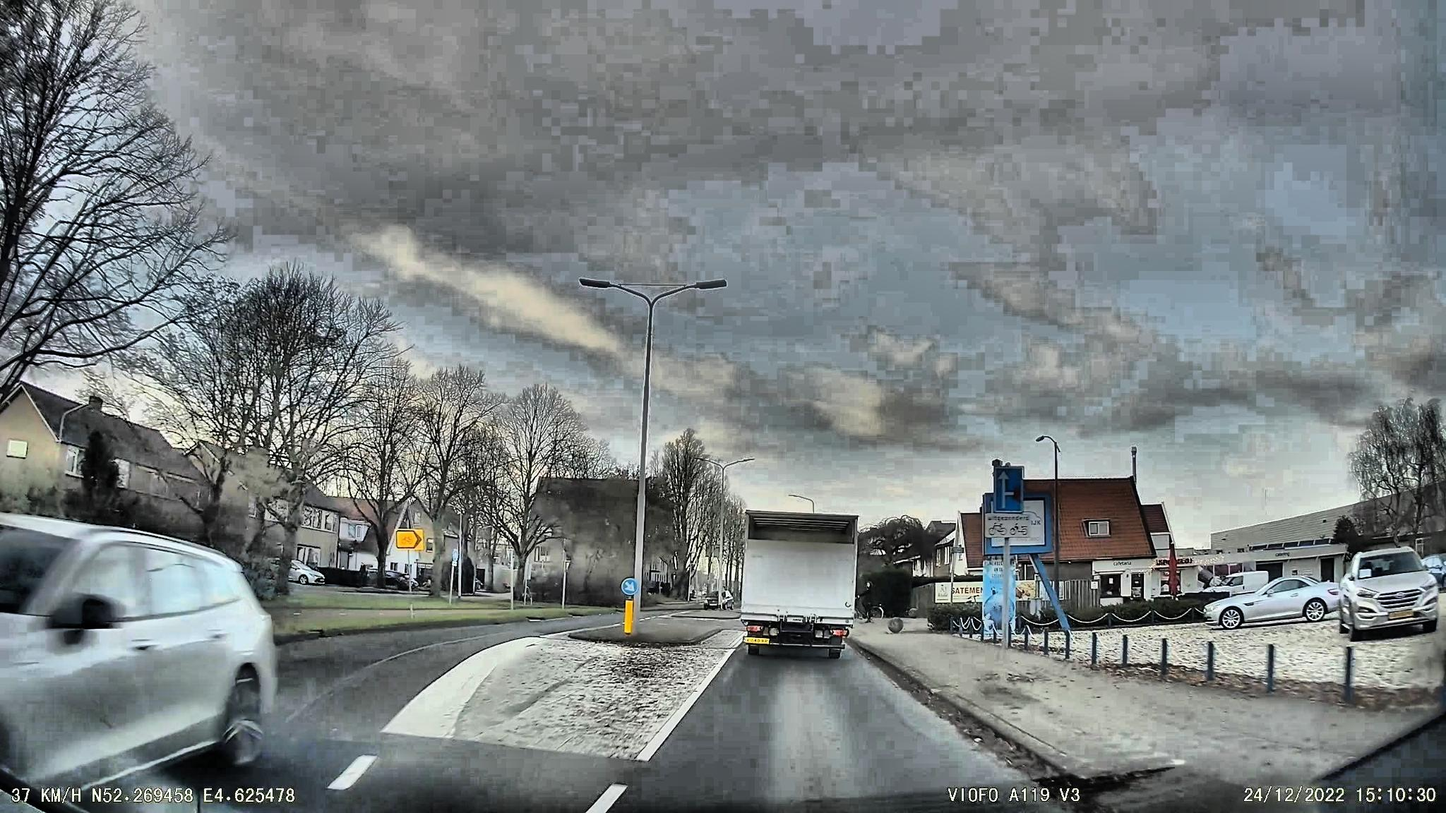Roads: (220, 628, 1043, 813)
